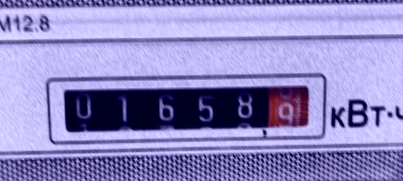0: (70, 88, 92, 120)
1: (115, 91, 128, 122)
5: (195, 90, 214, 123)
6: (155, 90, 175, 121)
8: (233, 88, 253, 120)
9: (274, 99, 292, 125)
screen: (37, 63, 330, 148)
